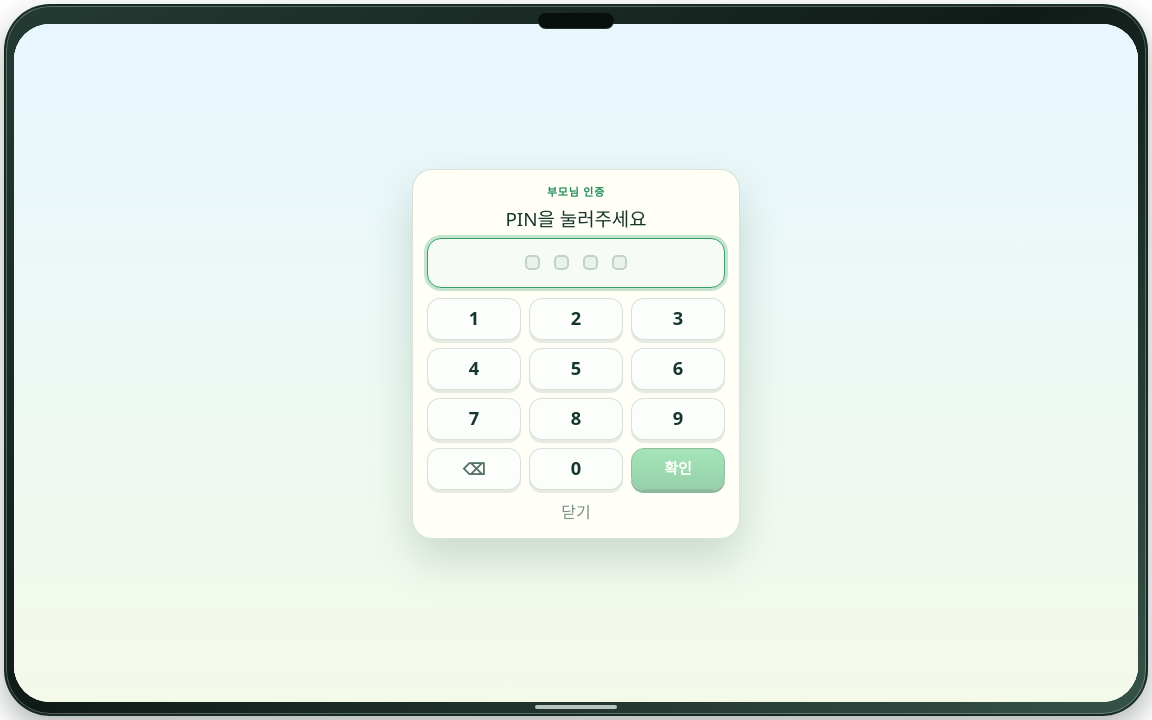
Test: renderer interactions › keeps an active admin timer visible when the stop bridge rejects
Step 1. Click the button "1" → (474, 319), box [427,298,521,340]
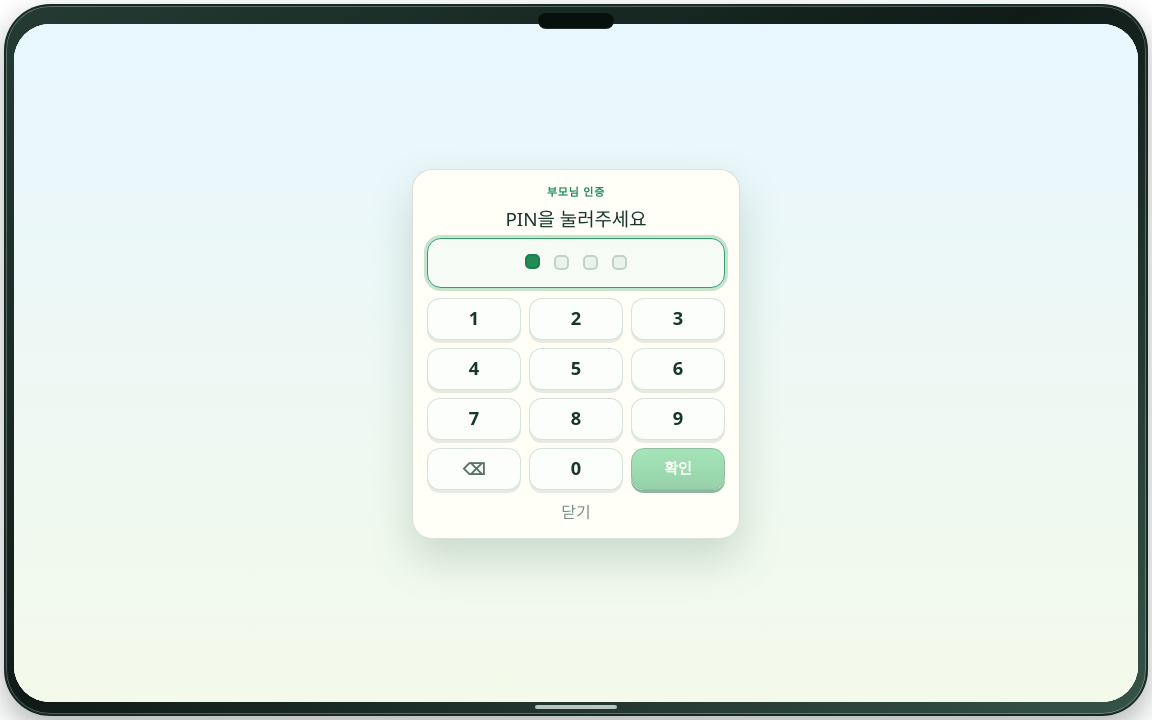
Step 2. Click the button "2" → (576, 319), box [529,298,623,340]
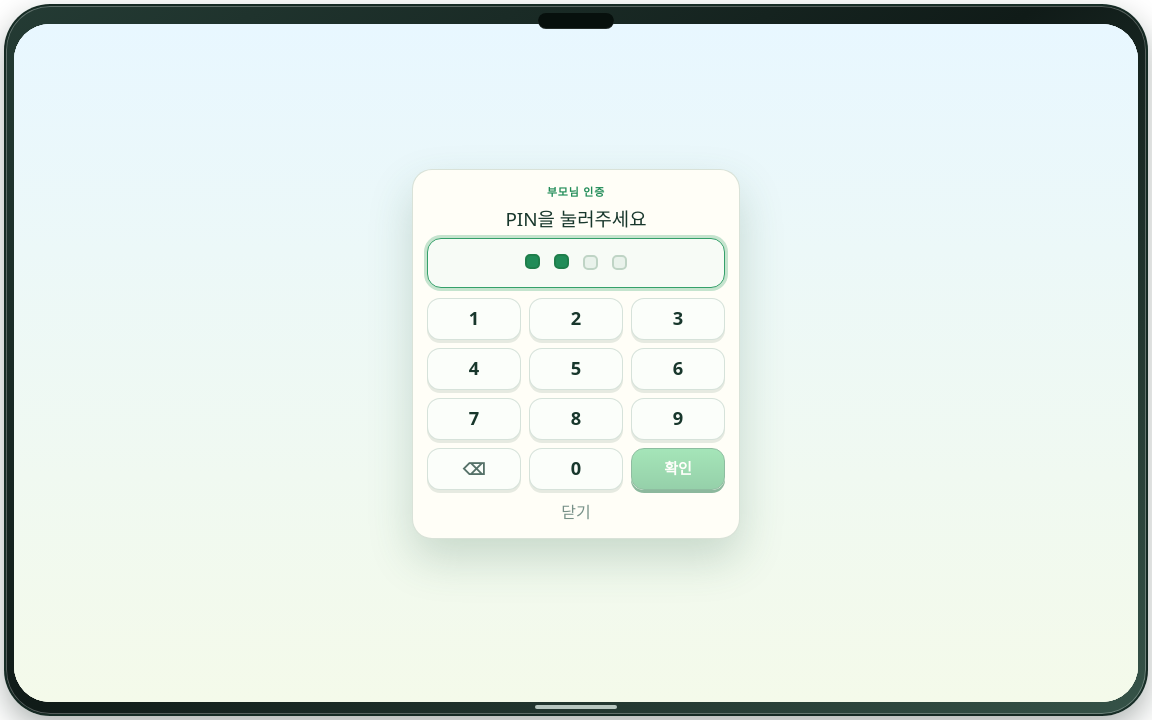
Step 3. Click the button "3" → (678, 319), box [631,298,725,340]
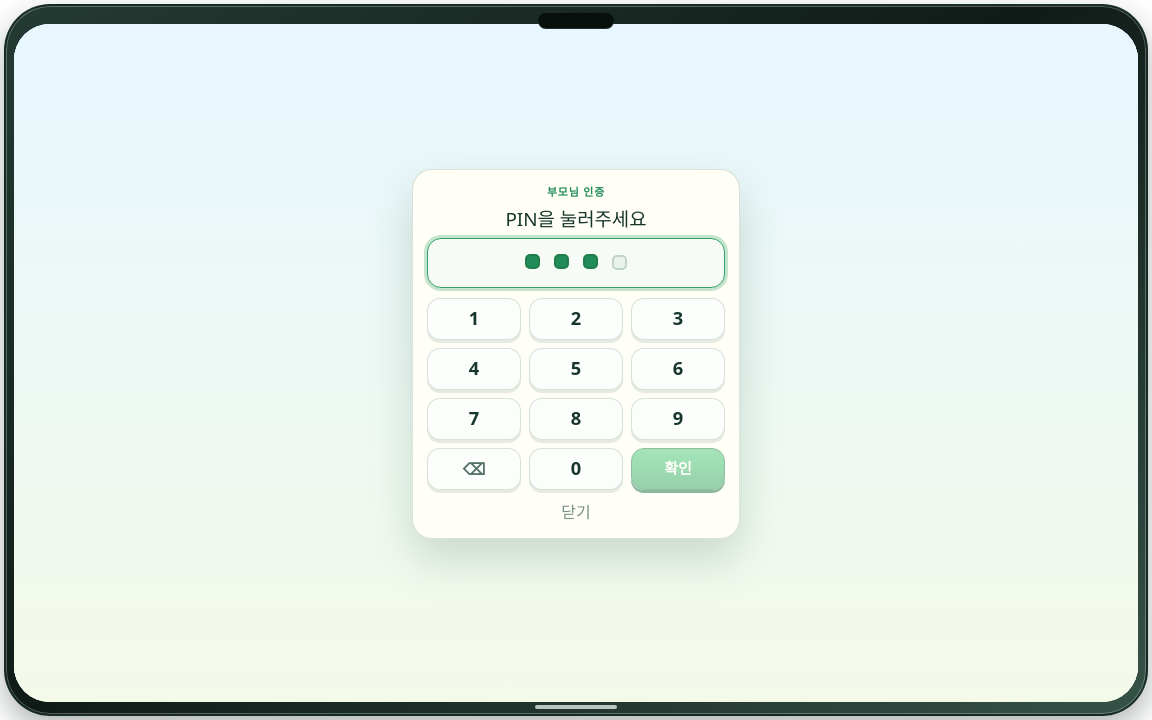
Step 4. Click the button "4" → (474, 369), box [427,348,521,390]
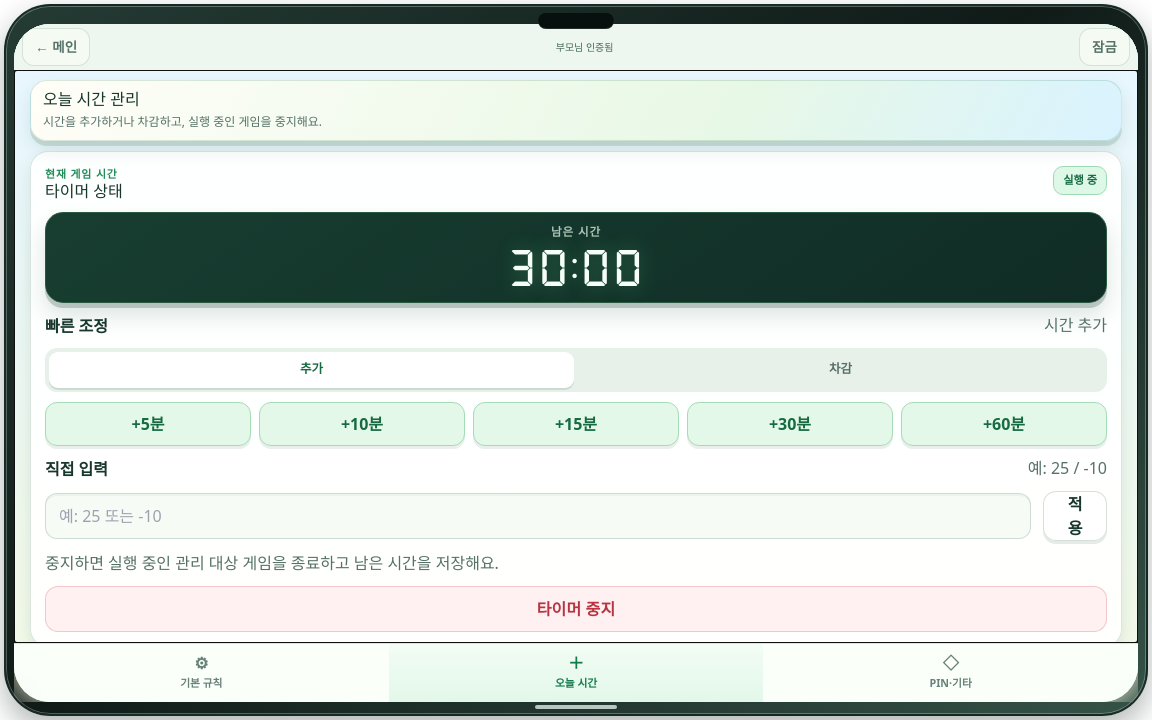
Step 5. Click the button "＋ 오늘 시간" → (576, 673), box [389,644,763,702]
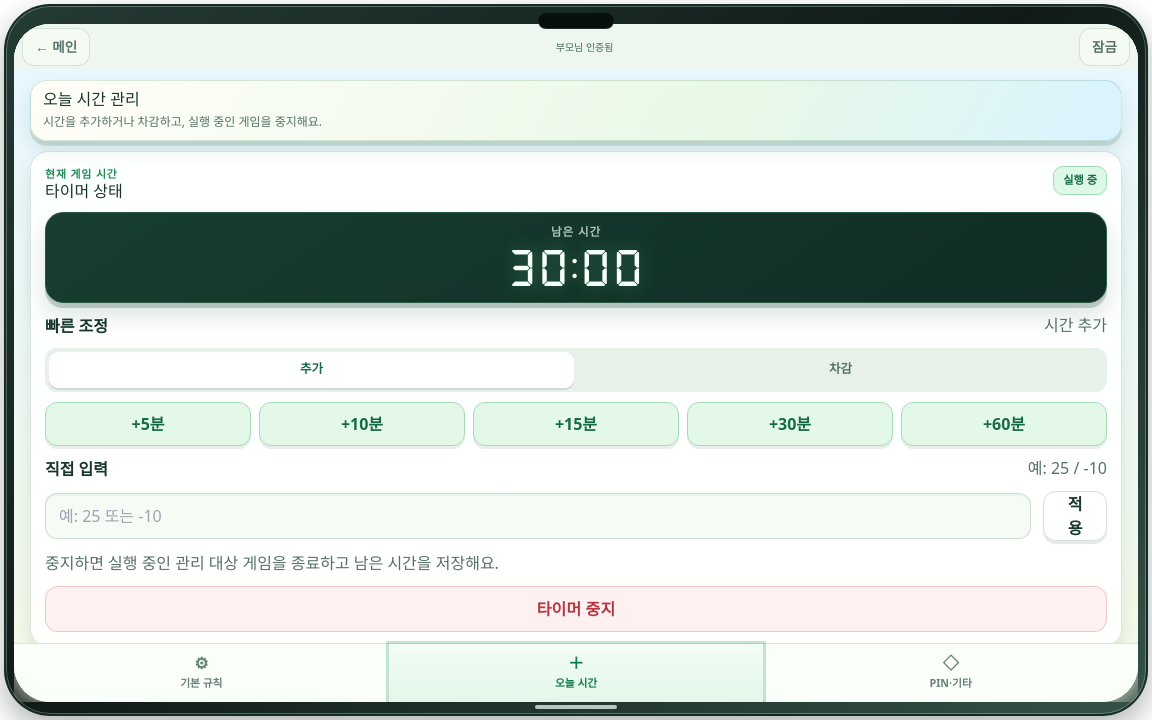
Step 6. Click the button "타이머 중지" → (576, 609), box [45,586,1107,632]
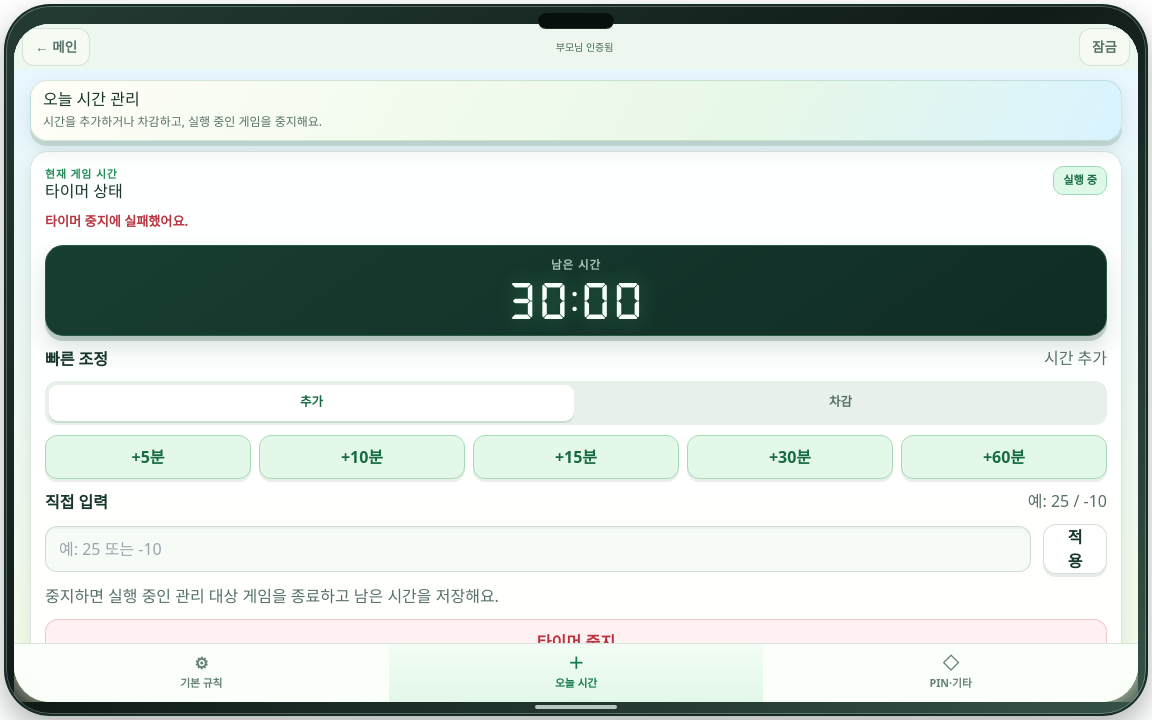
Now the text "실행 중" is shown, box [1053,166,1107,195]
Now the text "30:00" is shown, box [506,280,646,323]
Now the text "타이머 중지에 실패했어요." is shown, box [45,212,188,230]
